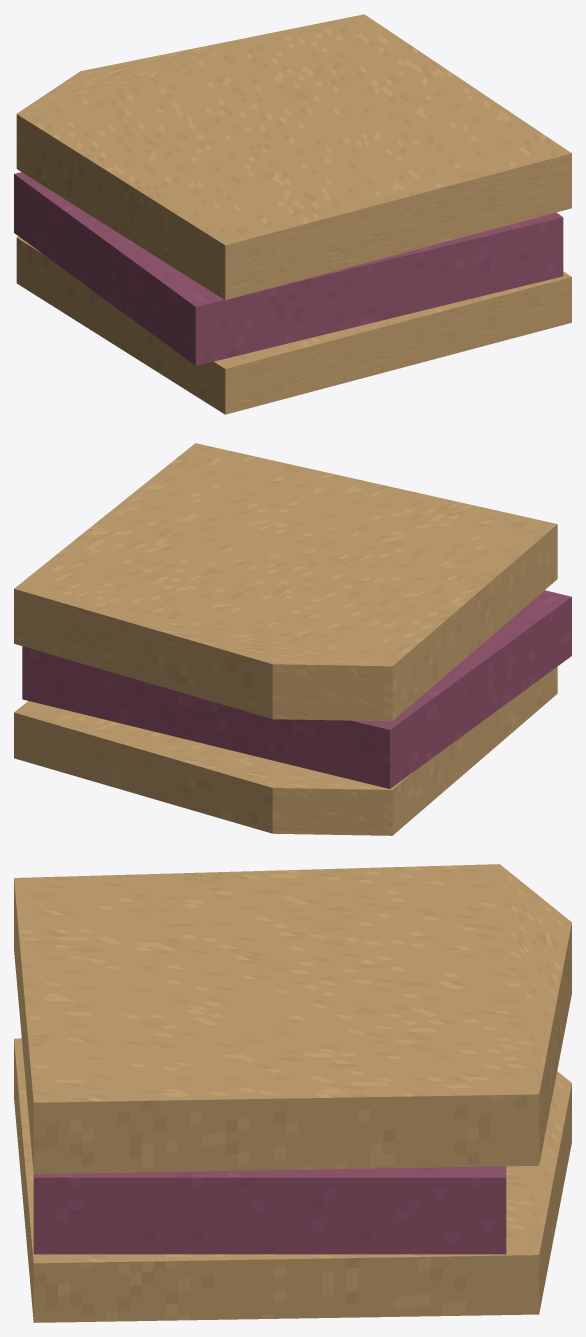
The model's file is sandwich_pbj.glb.
3 views of the same model, one above another, from view 1: azimuth 30°, elevation 25°; view 2: azimuth 150°, elevation 25°; view 3: azimuth 270°, elevation 25° (orthographic). The views are drawn at different scales.
Parts seen in each view (by area): view 1: block_upper slice, block_filling, block_lower slice; view 2: block_upper slice, block_filling, block_lower slice; view 3: block_upper slice, block_lower slice, block_filling.
Boxes of the visible parts, <box> form: block_upper slice: <box>16,14,571,300</box>; block_filling: <box>14,172,563,365</box>; block_lower slice: <box>16,236,571,414</box>; block_upper slice: <box>14,443,557,721</box>; block_filling: <box>22,590,571,788</box>; block_lower slice: <box>14,666,557,835</box>; block_upper slice: <box>14,864,571,1173</box>; block_lower slice: <box>14,1038,571,1322</box>; block_filling: <box>33,1166,506,1254</box>.
Bounding box in the file's own units: 0.1437 × 0.0618 × 0.142.
Materials: 1 (1 with a texture image).
